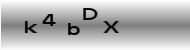4: (41, 13, 57, 27)
D: (81, 6, 99, 21)
X: (103, 19, 120, 35)
b: (66, 21, 81, 36)
k: (24, 20, 38, 35)
